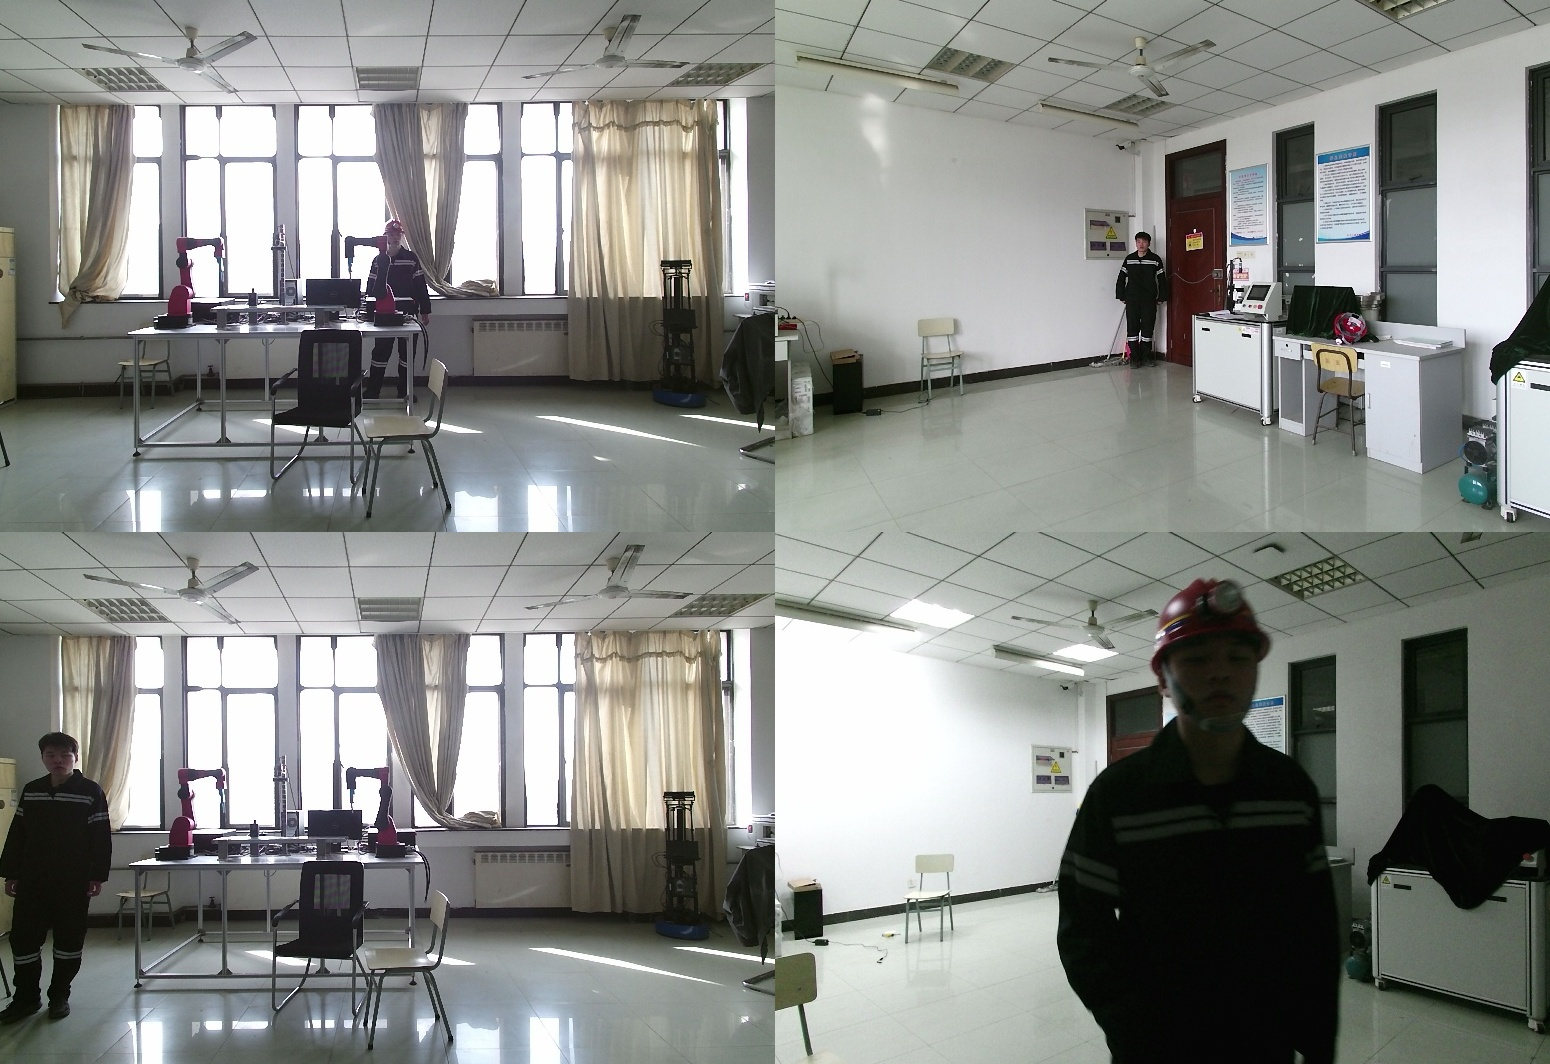person: (1057, 587, 1367, 1064), (3, 732, 118, 1019), (363, 220, 431, 400), (1118, 233, 1171, 370)
